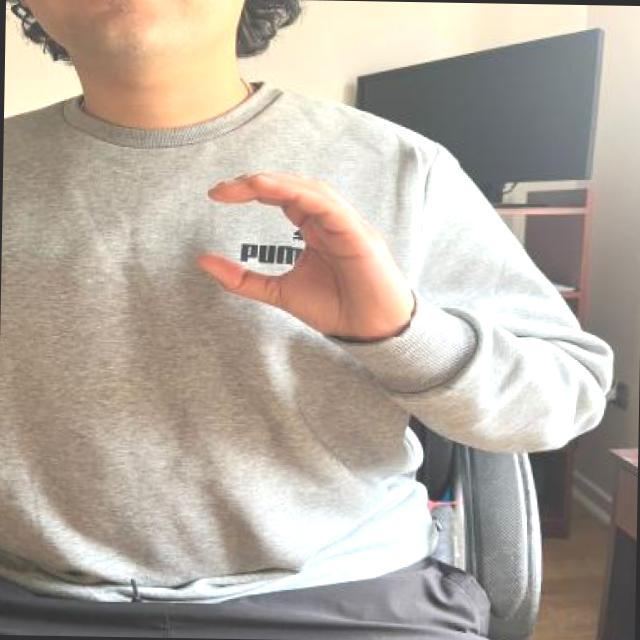C: (186, 160, 412, 337)
